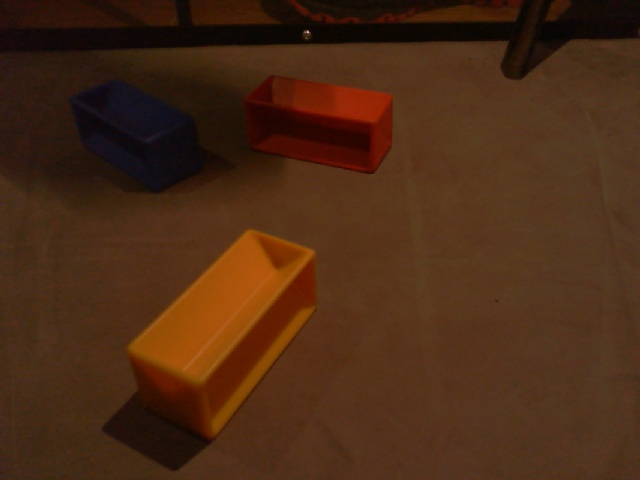BlueSample: (68, 77, 203, 196)
RedSample: (240, 73, 394, 176)
YellowSample: (120, 224, 318, 443)
